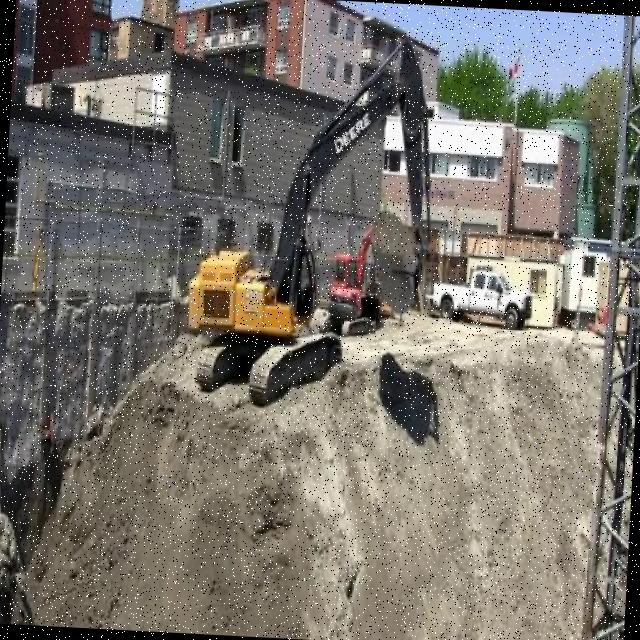Excavator: (182, 29, 438, 420), (321, 221, 396, 335)
